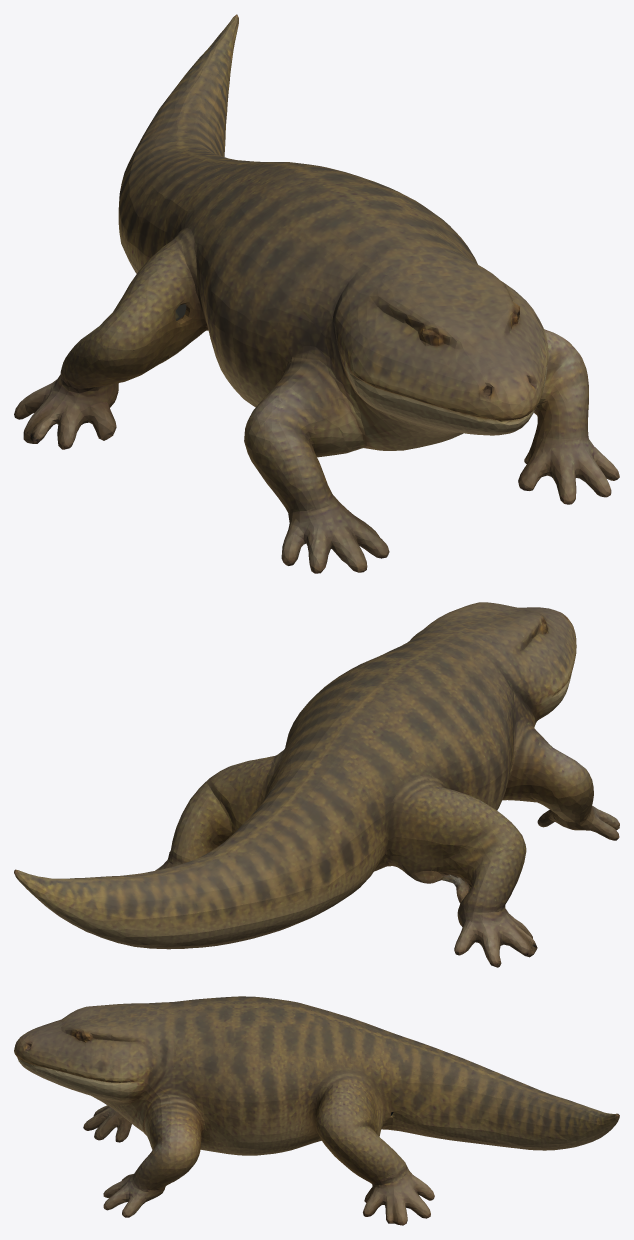
The picture shows the model from 3 angles, top to bottom: view 1: azimuth 30°, elevation 25°; view 2: azimuth 150°, elevation 25°; view 3: azimuth 270°, elevation 25°; orthographic projection. The views are drawn at different scales.
Visible parts, largest first — view 1: world; view 2: world; view 3: world.
Boxes of the visible parts, x1,y1,x2,y2 form: world: [14, 14, 619, 573]; world: [14, 602, 619, 967]; world: [14, 996, 619, 1225].
Bounding box in the file's own units: 0.5494 × 0.293 × 0.9998.
Materials: 1 (1 with a texture image).
